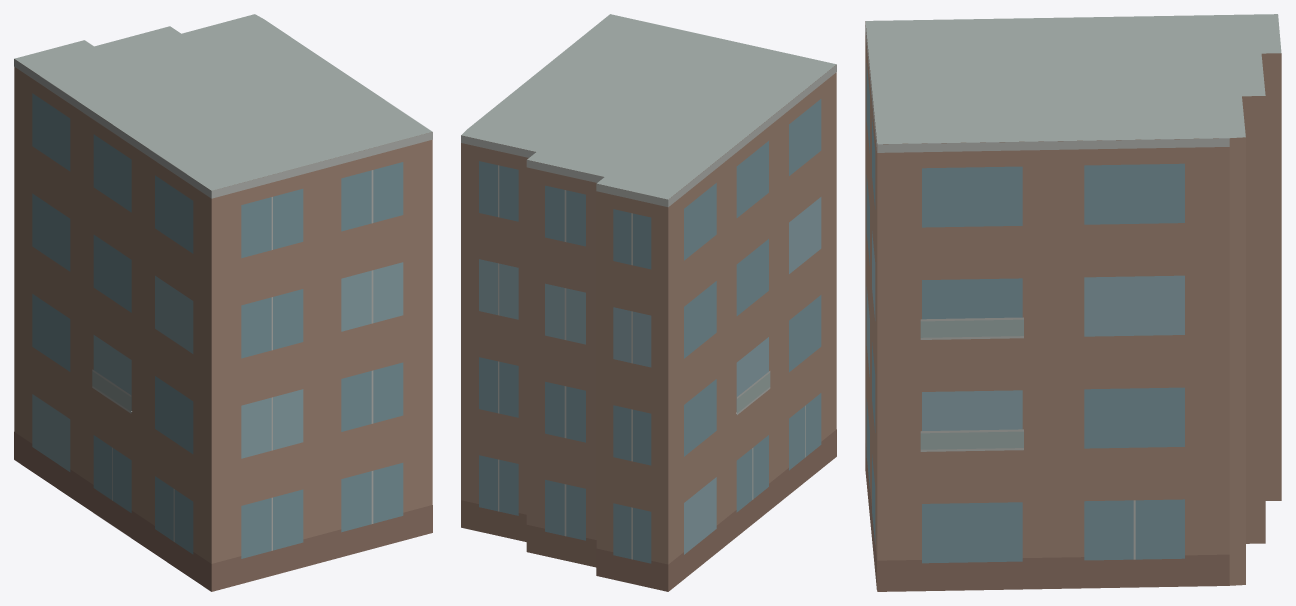
Rendered from survey-upis-33032118.glb.
The picture shows the model from 3 angles, left to right: view 1: azimuth 30°, elevation 25°; view 2: azimuth 150°, elevation 25°; view 3: azimuth 270°, elevation 25°; orthographic projection. The views are drawn at different scales.
Parts seen in each view (by area): view 1: survey-upis-33032118.tmp; view 2: survey-upis-33032118.tmp; view 3: survey-upis-33032118.tmp.
Part boxes in pixels (left/top/right/bottom): survey-upis-33032118.tmp: left=14, top=14, right=432, bottom=591; survey-upis-33032118.tmp: left=461, top=14, right=836, bottom=591; survey-upis-33032118.tmp: left=865, top=14, right=1281, bottom=591.
Size of the model in its own units: 7.81 by 12.5 by 10.54.
